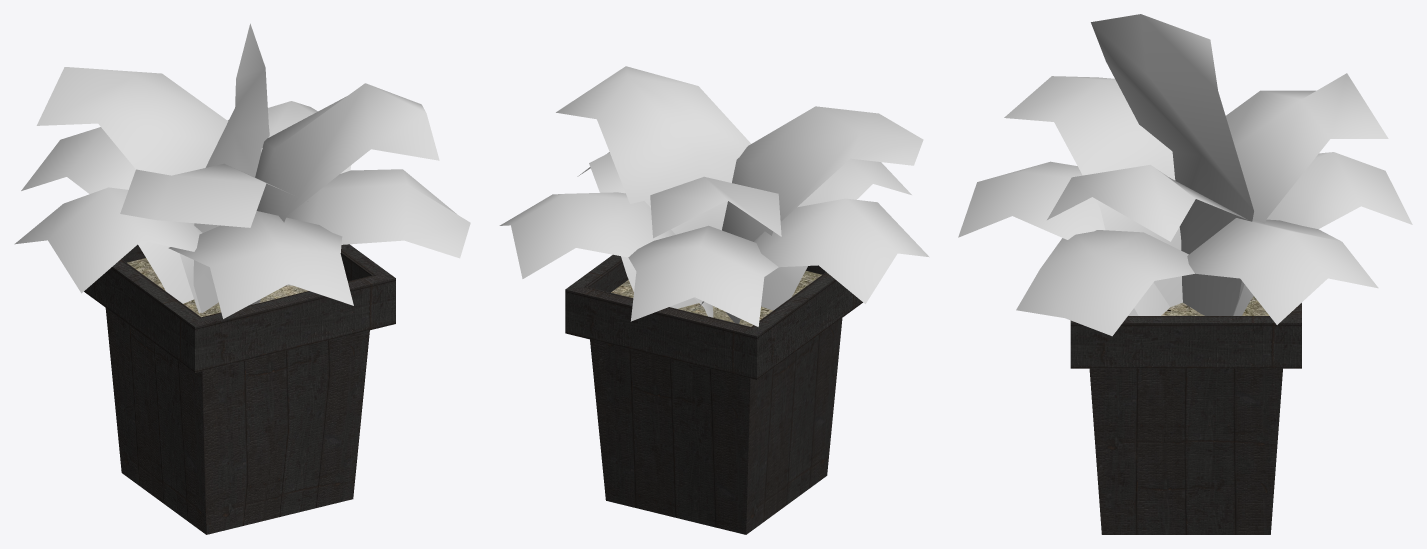
Rendered from Unity2Skfb.gltf.
3 views of the same model, side by side, from view 1: azimuth 30°, elevation 25°; view 2: azimuth 150°, elevation 25°; view 3: azimuth 270°, elevation 25° (orthographic). The views are drawn at different scales.
Parts seen in each view (by area): view 1: node_Plane_-3282, node_Plane_006_-3294, node_Plane_008_-3298, node_Plane_002_-3286, node_Plane_003_-3288, node_Plane_001_-3284, node_Plane_007_-3296, node_Plane_005_-3292, node_Plane_009_-3300, node_Plane_004_-3290; view 2: node_Plane_-3282, node_Plane_008_-3298, node_Plane_007_-3296, node_Plane_005_-3292, node_Plane_001_-3284, node_Plane_004_-3290, node_Plane_006_-3294, node_Plane_002_-3286, node_Plane_003_-3288; view 3: node_Plane_-3282, node_Plane_009_-3300, node_Plane_006_-3294, node_Plane_003_-3288, node_Plane_007_-3296, node_Plane_004_-3290, node_Plane_002_-3286, node_Plane_005_-3292, node_Plane_008_-3298.
Part boxes in pixels (bbox=[...]): node_Plane_-3282: bbox=[84, 244, 395, 534]; node_Plane_006_-3294: bbox=[36, 67, 228, 313]; node_Plane_008_-3298: bbox=[248, 83, 439, 305]; node_Plane_002_-3286: bbox=[168, 211, 353, 318]; node_Plane_003_-3288: bbox=[252, 169, 470, 304]; node_Plane_001_-3284: bbox=[14, 187, 202, 293]; node_Plane_007_-3296: bbox=[120, 163, 294, 227]; node_Plane_005_-3292: bbox=[21, 127, 193, 303]; node_Plane_009_-3300: bbox=[193, 23, 269, 313]; node_Plane_004_-3290: bbox=[227, 101, 351, 285]; node_Plane_-3282: bbox=[565, 254, 862, 534]; node_Plane_008_-3298: bbox=[556, 66, 750, 308]; node_Plane_007_-3296: bbox=[722, 106, 923, 323]; node_Plane_005_-3292: bbox=[628, 225, 778, 326]; node_Plane_001_-3284: bbox=[699, 198, 929, 306]; node_Plane_004_-3290: bbox=[499, 192, 713, 317]; node_Plane_006_-3294: bbox=[650, 176, 781, 238]; node_Plane_002_-3286: bbox=[761, 158, 911, 310]; node_Plane_003_-3288: bbox=[577, 152, 636, 291]; node_Plane_-3282: bbox=[1070, 296, 1301, 534]; node_Plane_009_-3300: bbox=[1091, 14, 1253, 315]; node_Plane_006_-3294: bbox=[1225, 73, 1388, 315]; node_Plane_003_-3288: bbox=[1016, 230, 1194, 336]; node_Plane_007_-3296: bbox=[1004, 76, 1182, 315]; node_Plane_004_-3290: bbox=[1187, 218, 1378, 324]; node_Plane_002_-3286: bbox=[958, 161, 1169, 315]; node_Plane_005_-3292: bbox=[1233, 152, 1412, 315]; node_Plane_008_-3298: bbox=[1047, 164, 1247, 241].
Size of the model in its own units: 1.45 by 1.79 by 1.54.
3 materials, 2 textured.
